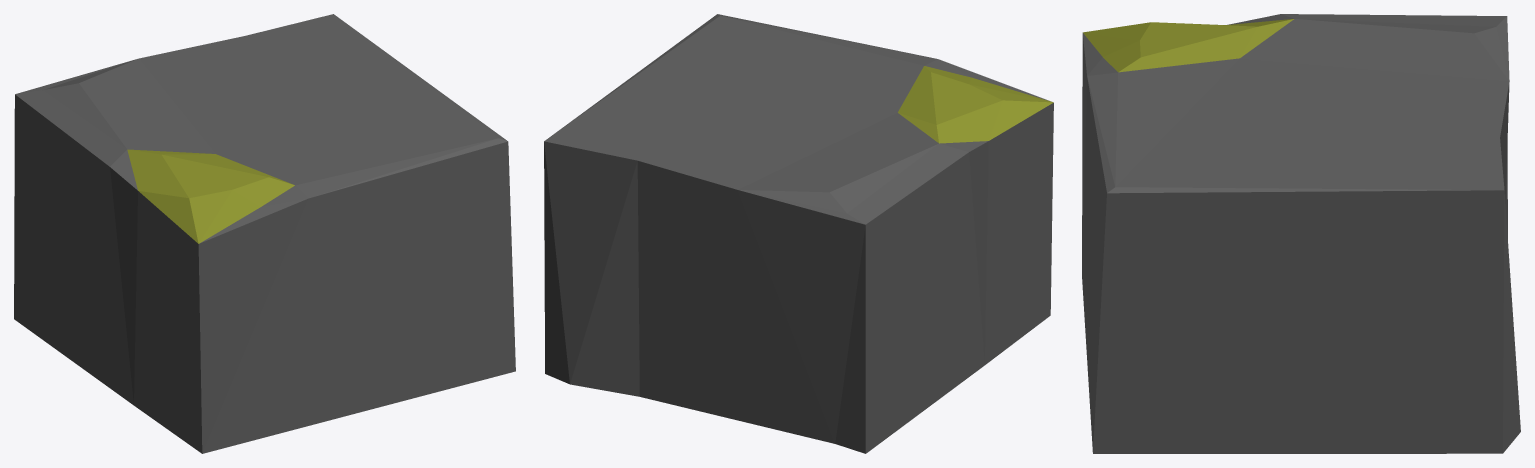
File: tile_squared_moss_type_4_LOD3.fbx
The picture shows the model from 3 angles, left to right: view 1: azimuth 30°, elevation 25°; view 2: azimuth 150°, elevation 25°; view 3: azimuth 270°, elevation 25°; orthographic projection. The views are drawn at different scales.
Visible parts, largest first — view 1: tile_squared_moss_type_4; view 2: tile_squared_moss_type_4; view 3: tile_squared_moss_type_4.
Part boxes in pixels (x1=…): tile_squared_moss_type_4: x1=14, y1=14, x2=515, y2=453; tile_squared_moss_type_4: x1=544, y1=14, x2=1053, y2=453; tile_squared_moss_type_4: x1=1082, y1=14, x2=1520, y2=453.
Size of the model in its own units: 117 by 81.75 by 119.
